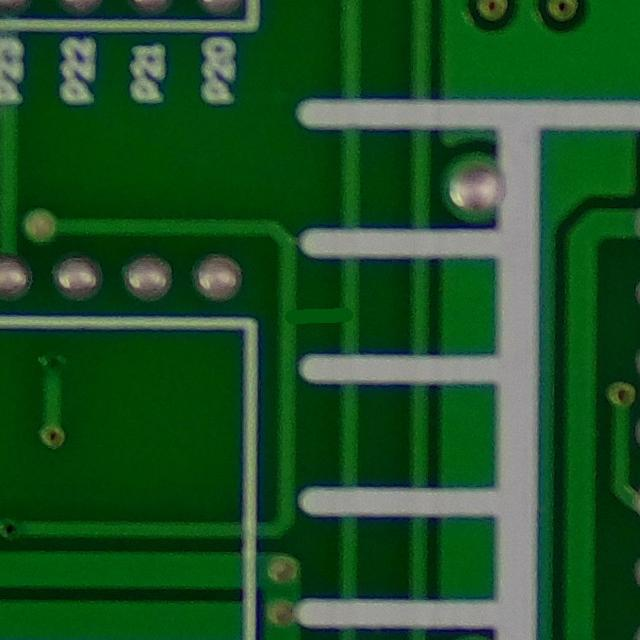short: (275, 277, 365, 364)
